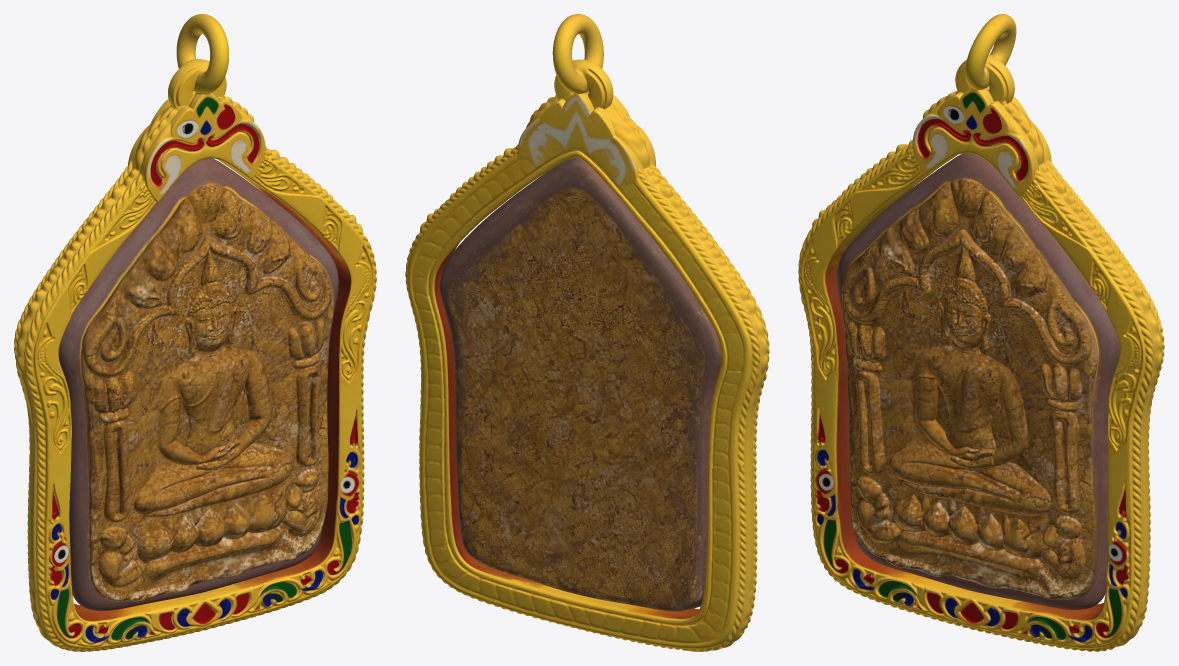
File: timkp.glb
The picture shows the model from 3 angles, left to right: view 1: azimuth 30°, elevation 25°; view 2: azimuth 150°, elevation 25°; view 3: azimuth 330°, elevation 25°; orthographic projection.
Size of the model in its own units: 0.6178 by 1 by 0.1277.
1 material, 1 textured.
